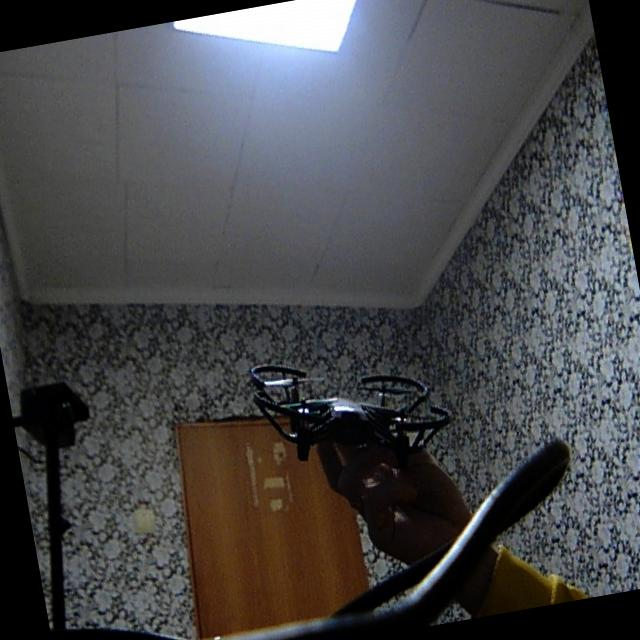drone: (225, 308, 462, 502)
